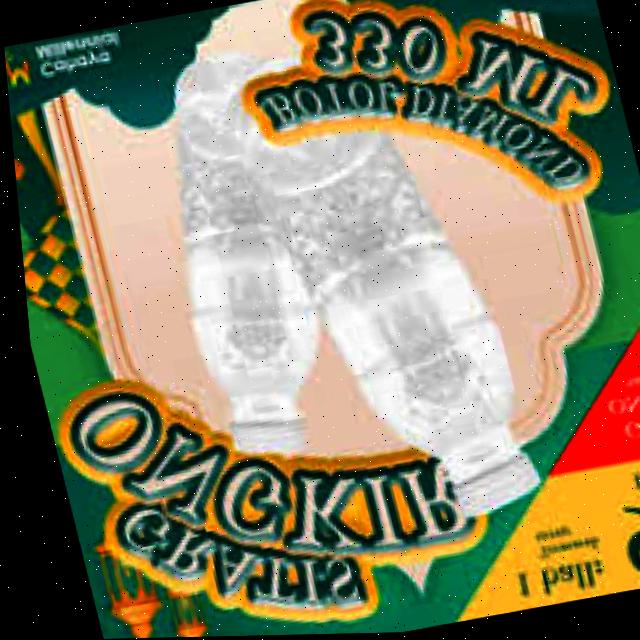sise: (245, 95, 556, 578), (123, 68, 374, 472)
